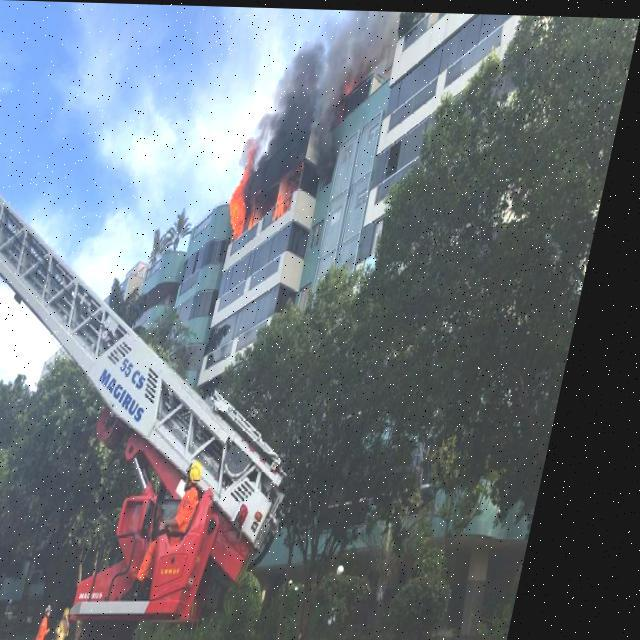Fire: (233, 150, 274, 226)
